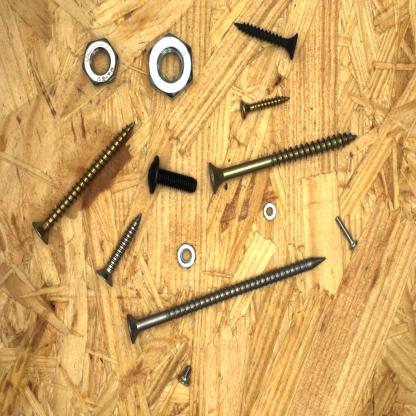screw: (125, 254, 330, 348), (30, 118, 137, 247), (206, 131, 360, 197), (94, 209, 145, 291), (230, 18, 300, 63), (145, 152, 201, 196), (239, 93, 293, 122), (333, 212, 361, 252), (175, 362, 197, 388)
